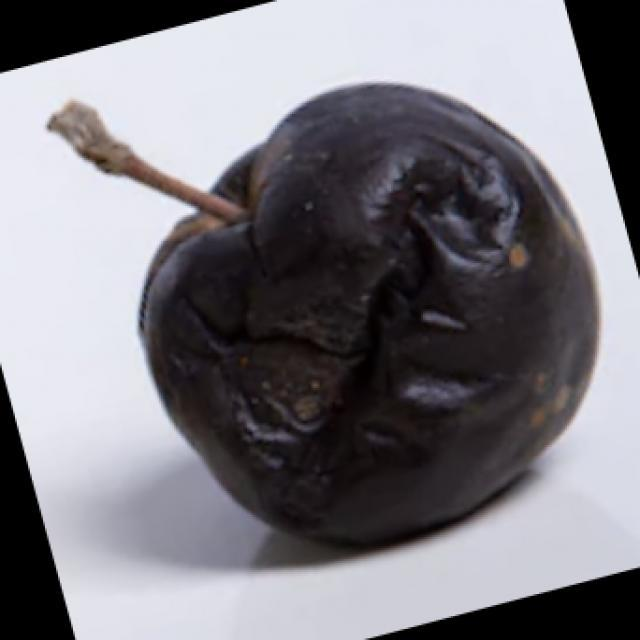Rotten: (112, 92, 590, 510)
